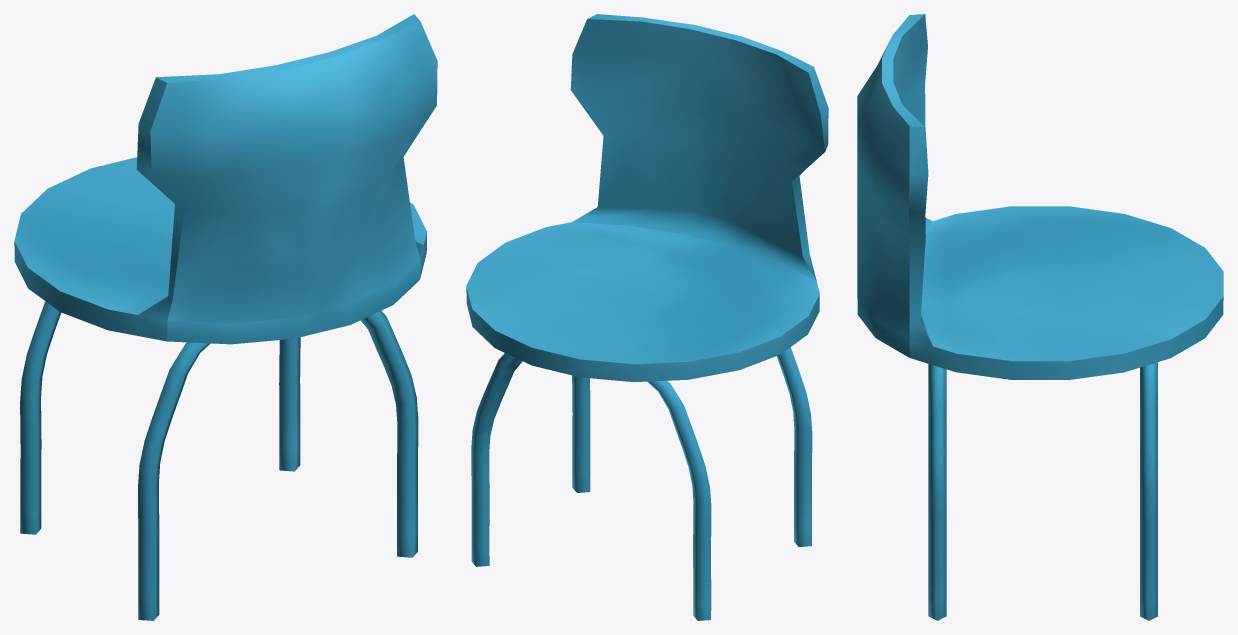
File: BgMD_Chair_pattern2_blue.fbx
3 views of the same model, side by side, from view 1: azimuth 30°, elevation 25°; view 2: azimuth 150°, elevation 25°; view 3: azimuth 270°, elevation 25° (orthographic). The views are drawn at different scales.
Visible parts, largest first — view 1: BgMD_Chair_pattern2_Color2; view 2: BgMD_Chair_pattern2_Color2; view 3: BgMD_Chair_pattern2_Color2.
Part boxes in pixels (x1,y1,x2,y2): BgMD_Chair_pattern2_Color2: (14, 14, 437, 620); BgMD_Chair_pattern2_Color2: (466, 14, 828, 620); BgMD_Chair_pattern2_Color2: (857, 14, 1223, 620).
Bounding box in the file's own units: 52.39 × 77.13 × 52.34.
